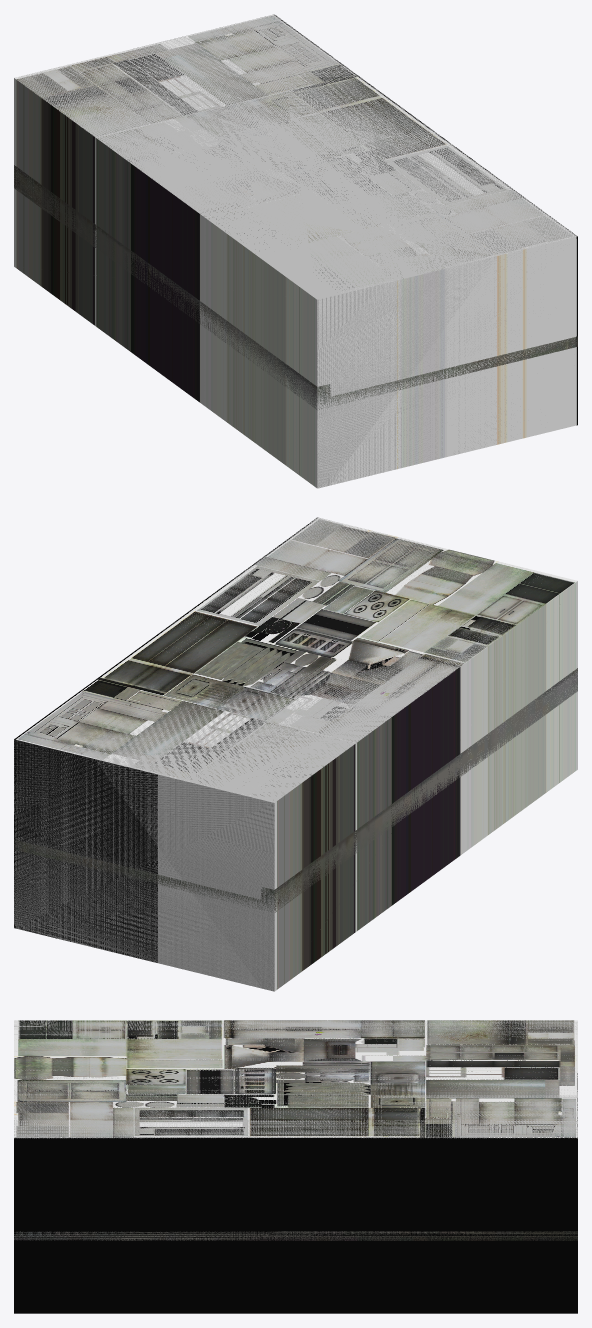
The model's file is sink.DAE.
3 renders of one model, top to bottom at view 1: azimuth 30°, elevation 25°; view 2: azimuth 150°, elevation 25°; view 3: azimuth 270°, elevation 25°, orthographic. The views are drawn at different scales.
Parts seen in each view (by area): view 1: colbox-1, bounds, sink100; view 2: colbox-1, bounds, sink100; view 3: colbox-1, bounds, sink100.
Part boxes in pixels (<box>): colbox-1: <box>14,14,577,488</box>; bounds: <box>16,14,577,488</box>; sink100: <box>14,165,577,409</box>; colbox-1: <box>14,517,577,991</box>; bounds: <box>14,517,538,991</box>; sink100: <box>14,668,577,912</box>; colbox-1: <box>14,1020,577,1313</box>; bounds: <box>14,1020,577,1138</box>; sink100: <box>14,1231,577,1240</box>.
Size of the model in its own units: 53.74 by 108 by 37.19.
